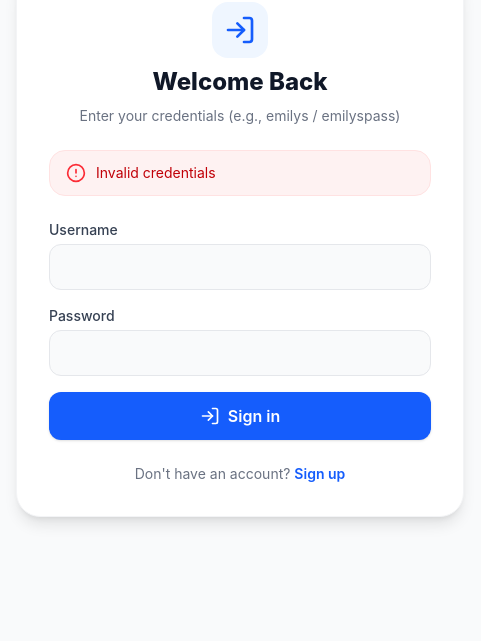
Test: AuthPage › Switching modes › should clear the store error when switching
This screenshot has width=481, height=641.
Expected: the message reads "Invalid credentials", [96,164,216,181]
What coordinates should you click on to do the following:
click the button "Sign up"
I would click on:
 (320, 474)
Its box is [294,464,345,484].
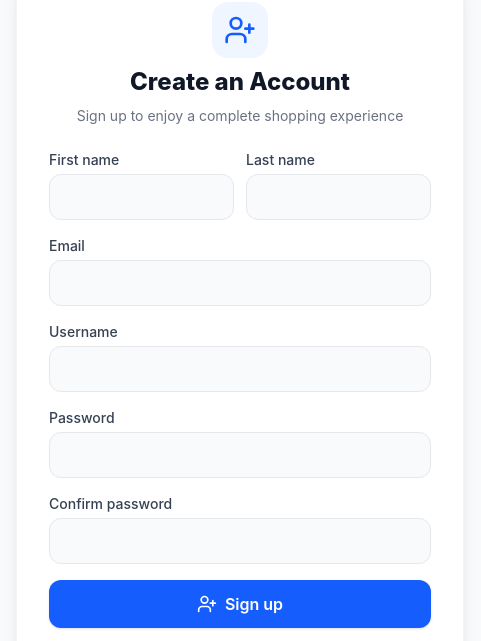
Expected: the message "Invalid credentials" is gone
